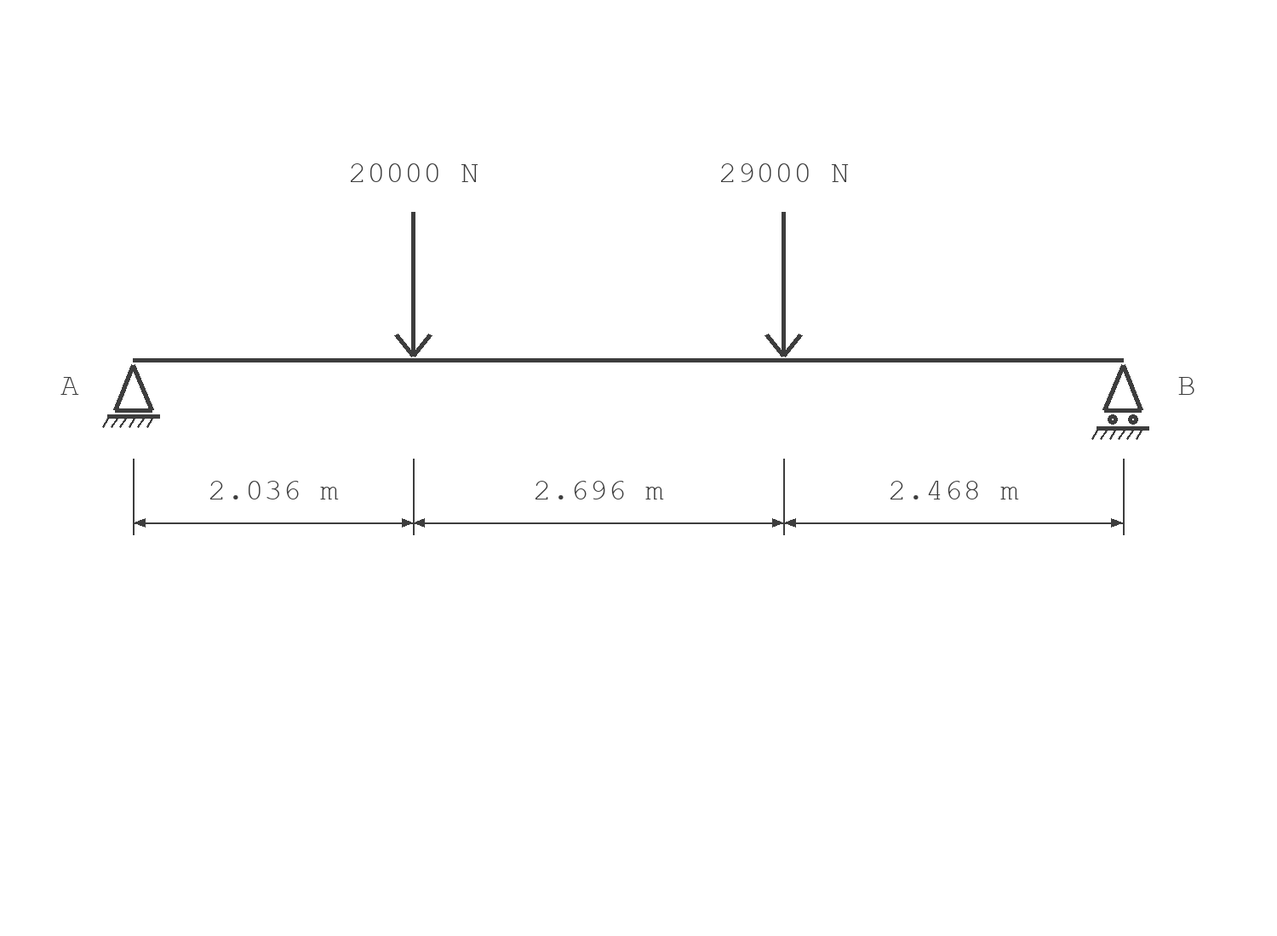pin_support: (102, 364, 160, 428)
point_load: (764, 212, 803, 357), (394, 212, 432, 357)
roller_support: (1091, 364, 1149, 440)
